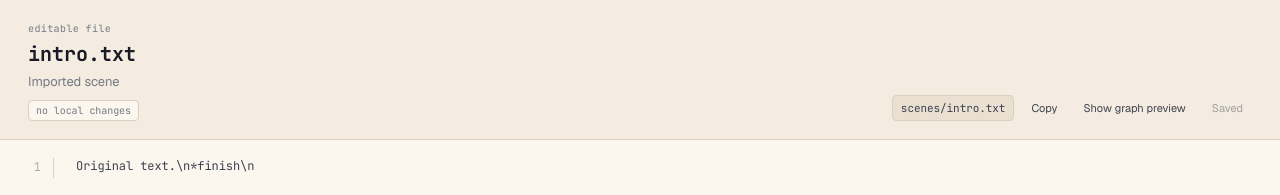
Test: source-to-graph preview flow › GeneratedDocumentView exposes a safe preview button and reports preserved-source status
Click the button "Show graph preview". click: (1135, 108)
box: x1=1074 y1=97 x2=1195 y2=119
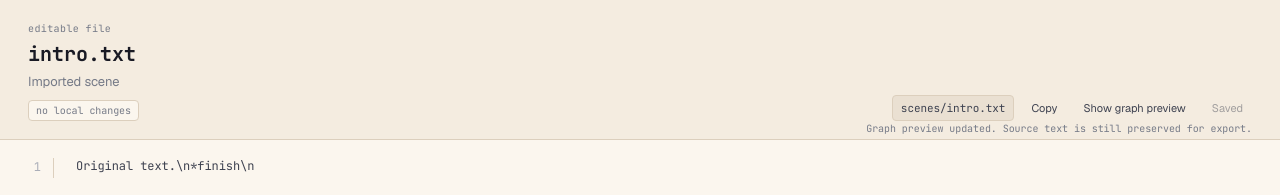
Expected: the text "Graph preview updated. Source text is still preserved for export." is shown, x1=866 y1=122 x2=1252 y2=135
